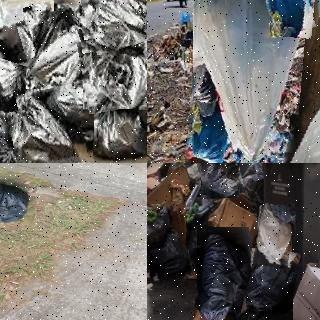Garbage: (187, 0, 317, 163), (21, 7, 103, 93), (6, 87, 89, 163), (195, 226, 251, 320), (80, 33, 147, 111), (242, 246, 297, 320), (93, 99, 147, 163), (147, 202, 190, 282), (0, 0, 57, 59), (83, 0, 147, 51), (255, 204, 294, 268), (0, 29, 29, 109), (0, 170, 36, 229), (262, 0, 312, 36), (198, 163, 242, 200)
